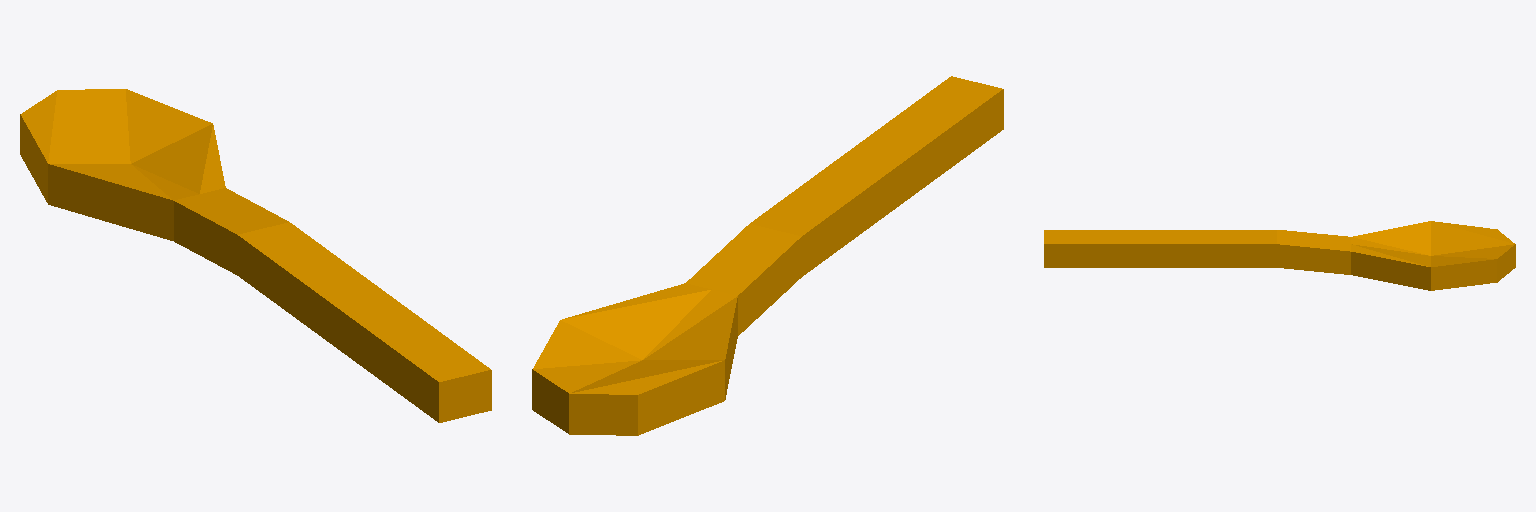
The robot description file, URDF, robot "Spoon":
<robot name="Spoon">
    <link name="spoon">
        <visual>
            <geometry>
                <mesh filename="meshes/spoon.obj"/>
            </geometry>
        </visual>
        <collision>
            <geometry>
                <mesh filename="meshes/spoon.obj"/>
            </geometry>
        </collision>
    </link>
</robot>

--- Facts derived from the render (not from the file) ---
Views: 3 orthographic renders of the robot side by side, from view 1: azimuth 30°, elevation 25°; view 2: azimuth 150°, elevation 25°; view 3: azimuth 270°, elevation 25°.
Model Spoon with 1 links and 0 joints (none), rooted at spoon, posed every joint at zero.
Links seen in each view (by area): view 1: spoon; view 2: spoon; view 3: spoon.
Link boxes in pixels (x1=…): spoon: x1=20, y1=89, x2=491, y2=422; spoon: x1=532, y1=76, x2=1003, y2=435; spoon: x1=1044, y1=221, x2=1515, y2=290.
Bounding box of the posed robot: 0.0066 × 0.0284 × 0.0028 m (x, y, z).
Meshes: 1 distinct files referenced, 1 mesh visuals loaded (1 OBJ).